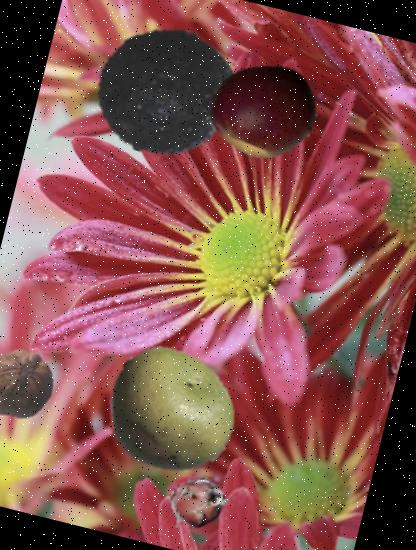Avocado: (82, 1, 255, 174)
Nectarine: (200, 47, 326, 174)
Pitahaya: (162, 466, 236, 540)
Pomelo: (90, 332, 250, 492)
Walnut: (0, 339, 63, 429)
